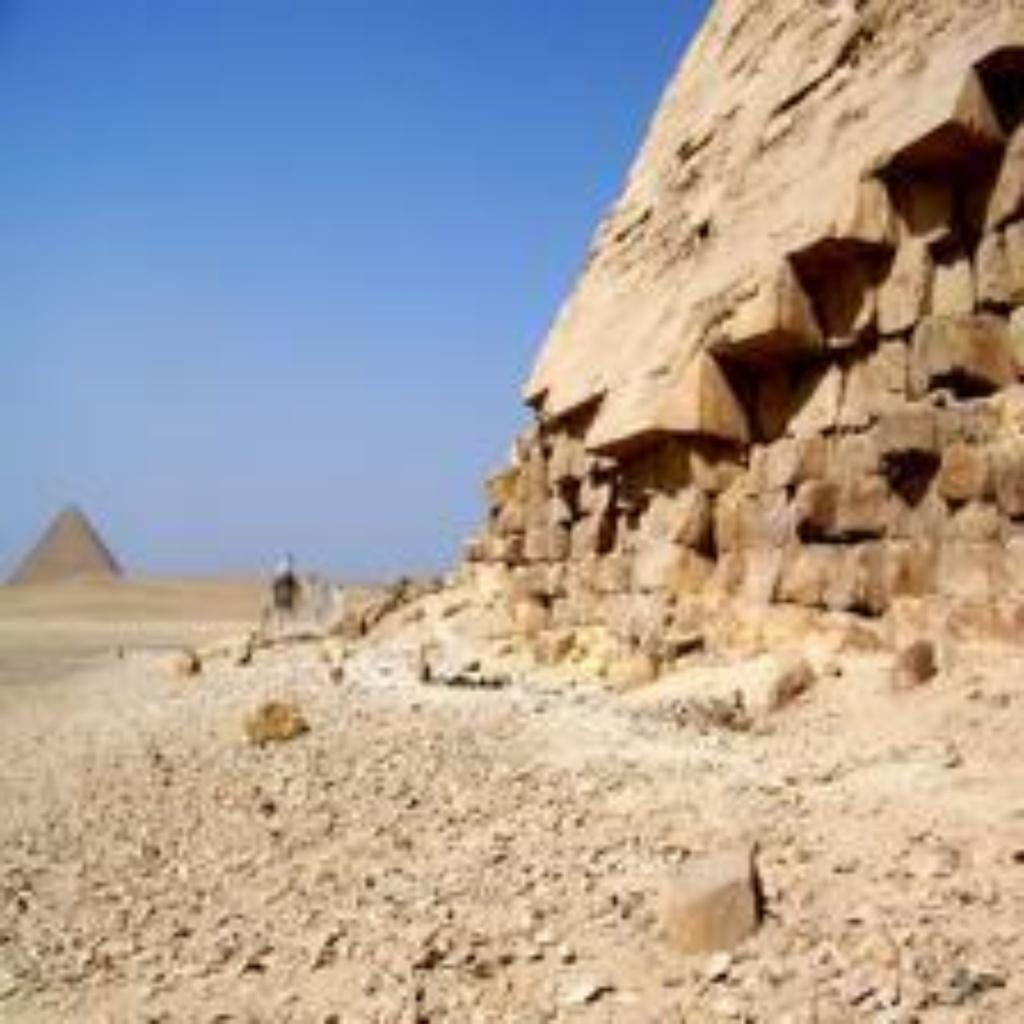Bent Pyramid of King Sneferu: (448, 0, 1019, 663)
